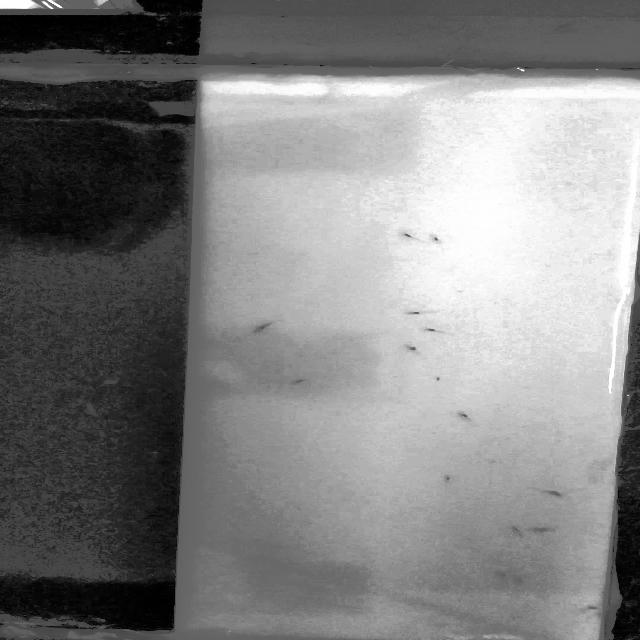shrimp: (399, 307, 445, 321), (422, 324, 458, 337), (405, 340, 430, 356), (541, 488, 567, 502), (579, 600, 599, 616), (430, 375, 445, 389), (430, 234, 447, 246), (505, 522, 522, 534), (286, 378, 311, 386), (528, 524, 553, 532), (398, 231, 421, 239), (512, 576, 534, 584), (251, 322, 279, 328), (442, 473, 456, 484), (495, 570, 508, 580), (460, 412, 475, 419)
